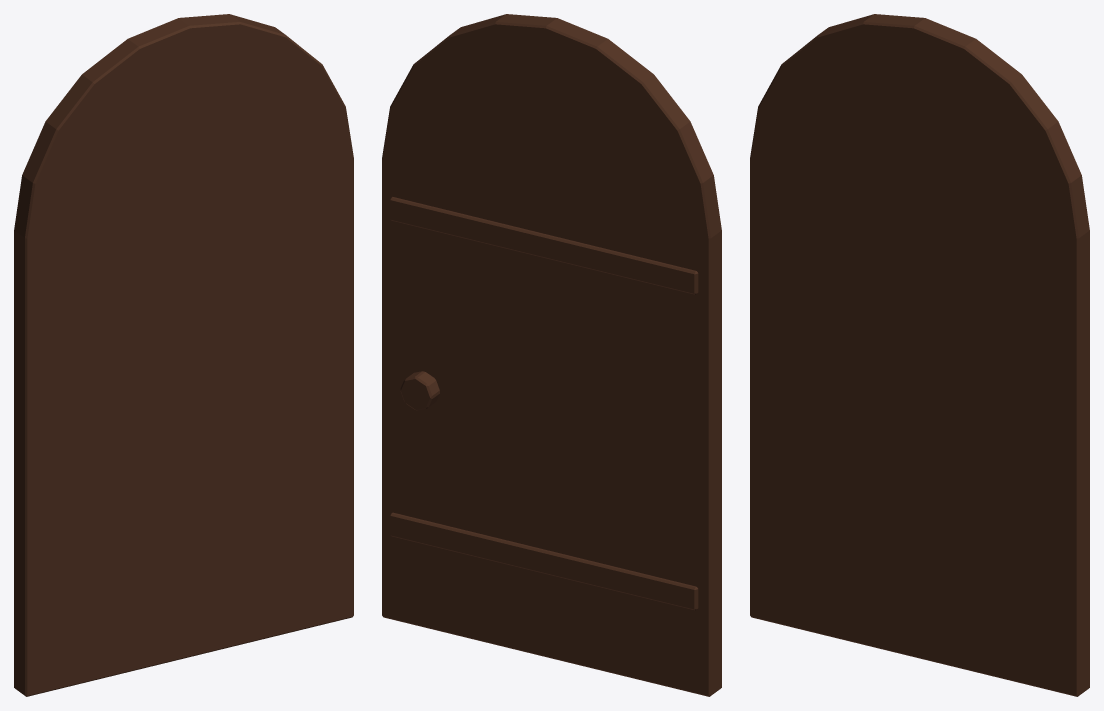
The model's file is door_leaf_arch.fbx.
The picture shows the model from 3 angles, left to right: view 1: azimuth 30°, elevation 25°; view 2: azimuth 150°, elevation 25°; view 3: azimuth 330°, elevation 25°; orthographic projection.
Parts seen in each view (by area): view 1: door_leaf_arch; view 2: door_leaf_arch; view 3: door_leaf_arch.
Boxes of the visible parts, left/top/right/bottom form: door_leaf_arch: left=14, top=14, right=353, bottom=696; door_leaf_arch: left=382, top=14, right=721, bottom=696; door_leaf_arch: left=750, top=14, right=1089, bottom=696.
Bounding box in the file's own units: 600 × 1100 × 70.
